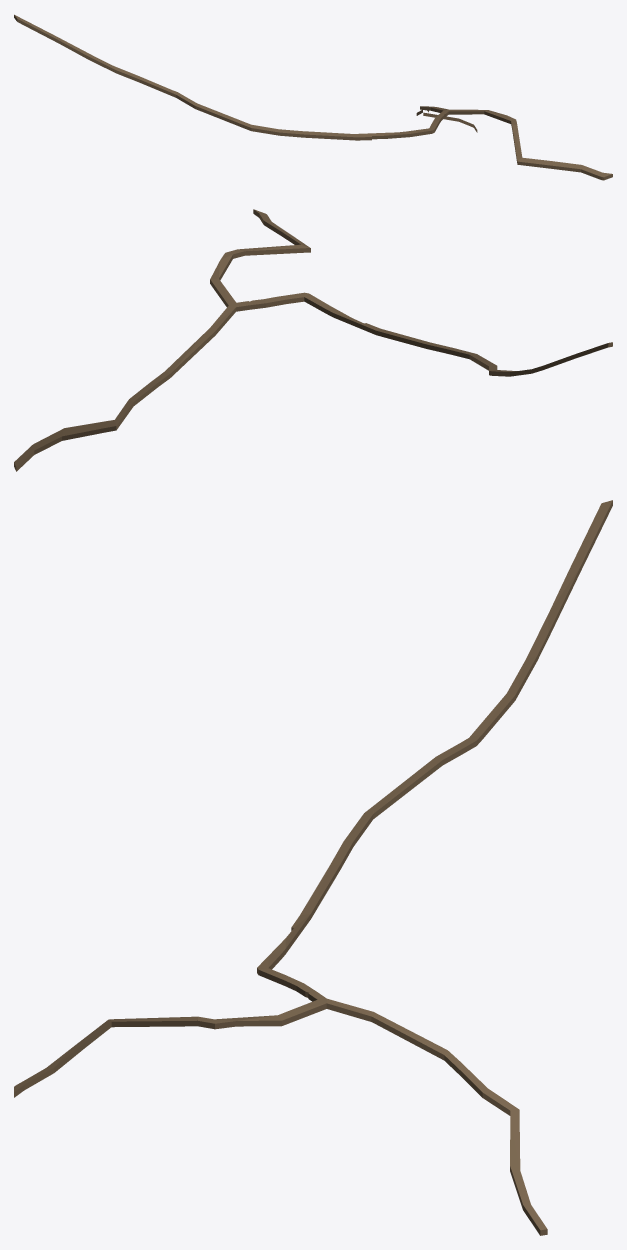
3 views of the same model, one above another, from view 1: azimuth 30°, elevation 25°; view 2: azimuth 150°, elevation 25°; view 3: azimuth 270°, elevation 25° (orthographic). The views are drawn at different scales.
Size of the model in its own units: 101 by 46.12 by 68.43.
